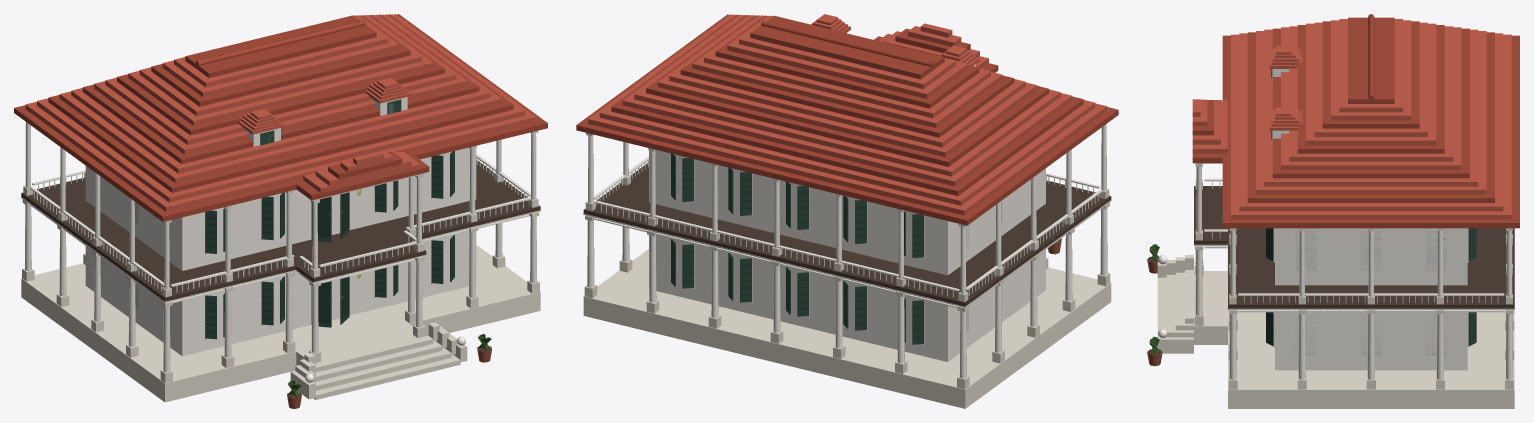
The model's file is rubber-plantation-mansion.glb.
3 views of the same model, side by side, from view 1: azimuth 30°, elevation 25°; view 2: azimuth 150°, elevation 25°; view 3: azimuth 270°, elevation 25° (orthographic).
Parts seen in each view (by area): view 1: Mesh_Foundation, Mesh_V_Floor, Mesh_G_CoreWall, Mesh_F2_CoreWall, Mesh_RoofLayer_2, Mesh_RoofLayer_3, Mesh_RoofLayer_0, Mesh_RoofLayer_1, Mesh_RoofLayer_4, Mesh_RoofLayer_5, Mesh_RoofLayer_15, Mesh_RoofLayer_6 (+31 smaller); view 2: Mesh_Foundation, Mesh_V_Floor, Mesh_G_CoreWall, Mesh_F2_CoreWall, Mesh_RoofLayer_0, Mesh_RoofLayer_1, Mesh_RoofLayer_2, Mesh_RoofLayer_3, Mesh_RoofLayer_4, Mesh_RoofLayer_5, Mesh_RoofLayer_6, Mesh_RoofLayer_15 (+32 smaller); view 3: Mesh_Foundation, Mesh_F2_CoreWall, Mesh_G_CoreWall, Mesh_V_Floor, Mesh_RoofLayer_0, Mesh_RoofLayer_1, Mesh_RoofLayer_2, Mesh_RoofLayer_3, Mesh_RoofLayer_4, Mesh_RoofLayer_5, Mesh_RoofLayer_6, Mesh_RoofLayer_15 (+38 smaller).
Part boxes in pixels (left/top/right/bottom): Mesh_Foundation: left=21, top=245, right=540, bottom=402; Mesh_V_Floor: left=21, top=160, right=540, bottom=301; Mesh_G_CoreWall: left=85, top=231, right=476, bottom=356; Mesh_F2_CoreWall: left=85, top=147, right=476, bottom=270; Mesh_RoofLayer_2: left=37, top=14, right=524, bottom=202; Mesh_RoofLayer_3: left=48, top=14, right=513, bottom=192; Mesh_RoofLayer_0: left=14, top=14, right=547, bottom=221; Mesh_RoofLayer_1: left=25, top=14, right=536, bottom=211; Mesh_RoofLayer_4: left=59, top=14, right=502, bottom=183; Mesh_RoofLayer_5: left=71, top=14, right=490, bottom=173; Mesh_RoofLayer_15: left=185, top=15, right=376, bottom=77; Mesh_RoofLayer_6: left=82, top=14, right=479, bottom=164; Mesh_Foundation: left=583, top=249, right=1111, bottom=408; Mesh_V_Floor: left=583, top=163, right=1111, bottom=306; Mesh_G_CoreWall: left=649, top=235, right=1045, bottom=361; Mesh_F2_CoreWall: left=649, top=150, right=1045, bottom=275; Mesh_RoofLayer_0: left=576, top=14, right=1118, bottom=225; Mesh_RoofLayer_1: left=588, top=14, right=1106, bottom=215; Mesh_RoofLayer_2: left=599, top=14, right=1095, bottom=205; Mesh_RoofLayer_3: left=611, top=14, right=1083, bottom=195; Mesh_RoofLayer_4: left=622, top=14, right=1072, bottom=186; Mesh_RoofLayer_5: left=634, top=15, right=1060, bottom=176; Mesh_RoofLayer_6: left=646, top=15, right=1048, bottom=166; Mesh_RoofLayer_15: left=750, top=15, right=944, bottom=79; Mesh_Foundation: left=1228, top=310, right=1514, bottom=408; Mesh_F2_CoreWall: left=1275, top=228, right=1467, bottom=285; Mesh_G_CoreWall: left=1275, top=312, right=1467, bottom=370; Mesh_V_Floor: left=1228, top=228, right=1514, bottom=308; Mesh_RoofLayer_0: left=1222, top=35, right=1519, bottom=228; Mesh_RoofLayer_1: left=1231, top=34, right=1511, bottom=219; Mesh_RoofLayer_2: left=1239, top=33, right=1503, bottom=211; Mesh_RoofLayer_3: left=1247, top=32, right=1494, bottom=202; Mesh_RoofLayer_4: left=1256, top=31, right=1486, bottom=194; Mesh_RoofLayer_5: left=1264, top=29, right=1478, bottom=186; Mesh_RoofLayer_6: left=1272, top=28, right=1469, bottom=178; Mesh_RoofLayer_15: left=1348, top=17, right=1394, bottom=103.
Bounding box in the file's own units: 17 × 11.12 × 14.3.
